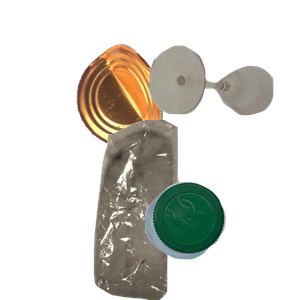glass: (147, 43, 300, 151)
metal: (74, 41, 229, 181)
plastic: (142, 179, 300, 300)
trash: (70, 120, 256, 300)
